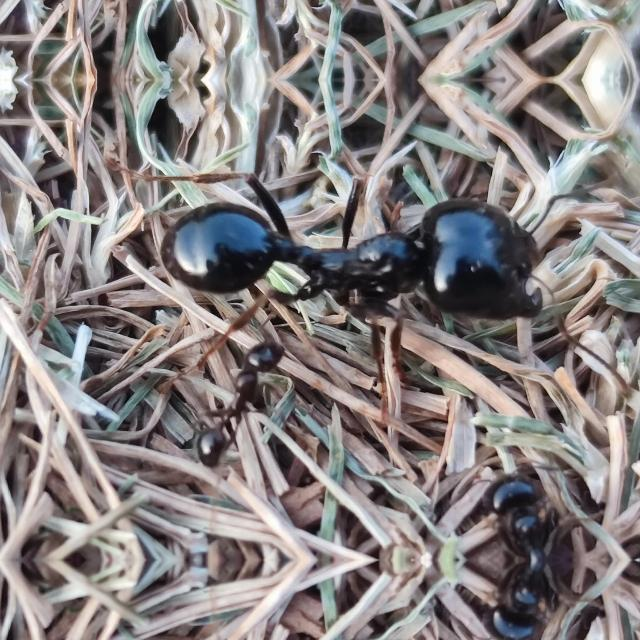Messor: (129, 172, 569, 336), (173, 320, 315, 474), (465, 461, 581, 559), (465, 561, 581, 640)
